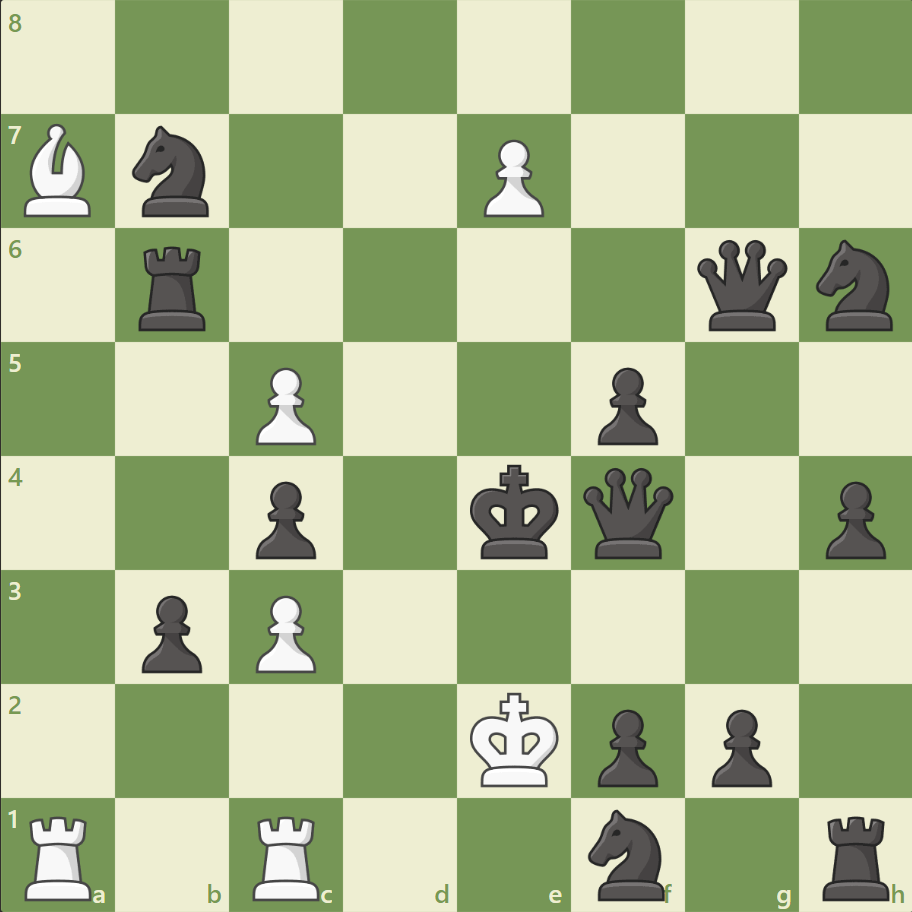B: (17, 120, 101, 222)
K: (465, 685, 565, 793)
P: (474, 132, 549, 223), (247, 359, 322, 450), (247, 586, 322, 677)
R: (19, 806, 102, 904), (246, 806, 329, 904)
k: (465, 458, 565, 566)
n: (124, 121, 222, 223), (806, 234, 903, 337), (579, 802, 676, 904)
p: (247, 473, 322, 564), (133, 586, 208, 677), (701, 700, 776, 791), (588, 359, 662, 450), (815, 473, 889, 564), (588, 700, 662, 791)
q: (691, 236, 790, 335), (578, 463, 677, 562)
r: (814, 806, 897, 904), (133, 239, 215, 336)
